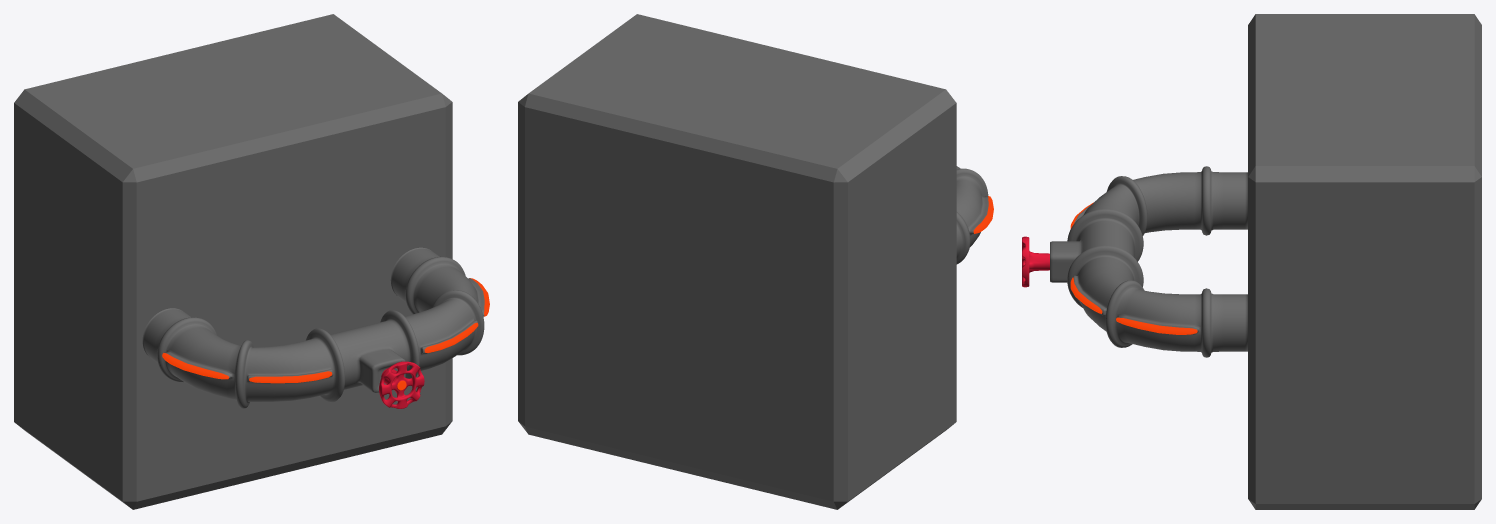
Rendered from ValveButtonDES.fbx.
The picture shows the model from 3 angles, left to right: view 1: azimuth 30°, elevation 25°; view 2: azimuth 150°, elevation 25°; view 3: azimuth 270°, elevation 25°; orthographic projection.
Visible parts, largest first — view 1: Pipe.001, Valve; view 2: Pipe.001; view 3: Pipe.001, Valve.
Part boxes in pixels (x1=…): Pipe.001: x1=14, y1=14, x2=489, y2=509; Valve: x1=379, y1=361, x2=424, y2=408; Pipe.001: x1=518, y1=14, x2=993, y2=509; Pipe.001: x1=1050, y1=14, x2=1481, y2=509; Valve: x1=1022, y1=236, x2=1049, y2=287.
Size of the model in its own units: 1329 by 1313 by 1591.
